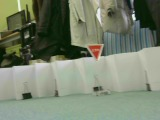stop: (86, 43, 105, 62)
